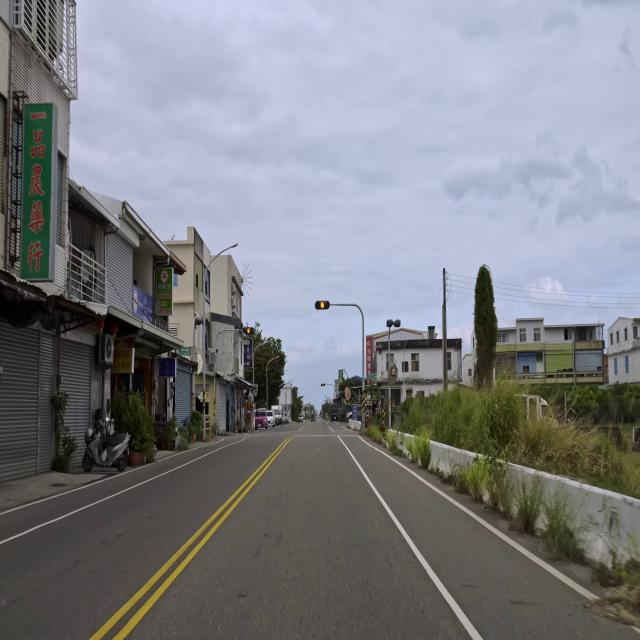yellow light: (315, 301, 329, 310), (242, 327, 254, 335)
